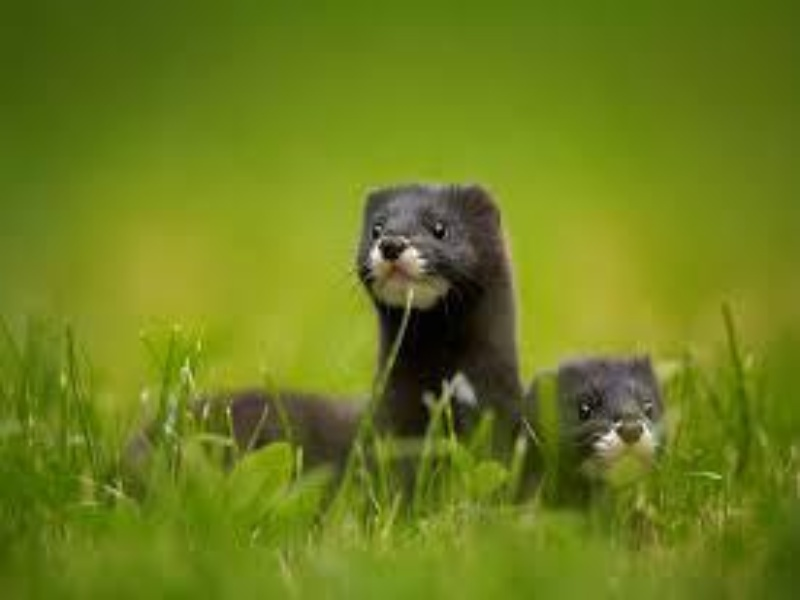minkish: (98, 179, 526, 506), (524, 351, 671, 517)
